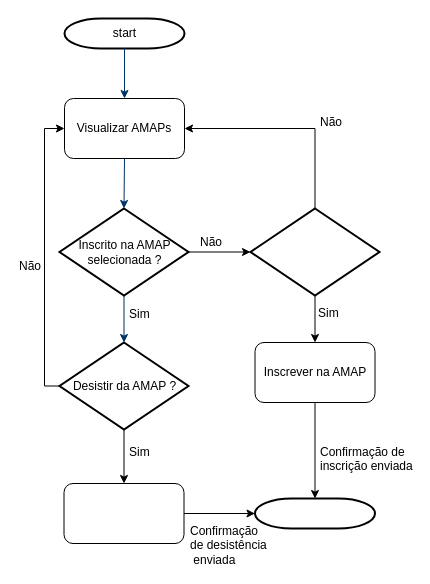
This 430x584 diagram has some shape labels left out. Each missing label, with the box of its shape:
AMAP disponível ?: (249, 207, 380, 296)
Desistir da AMAP: (63, 482, 184, 544)
end: (254, 497, 376, 529)
